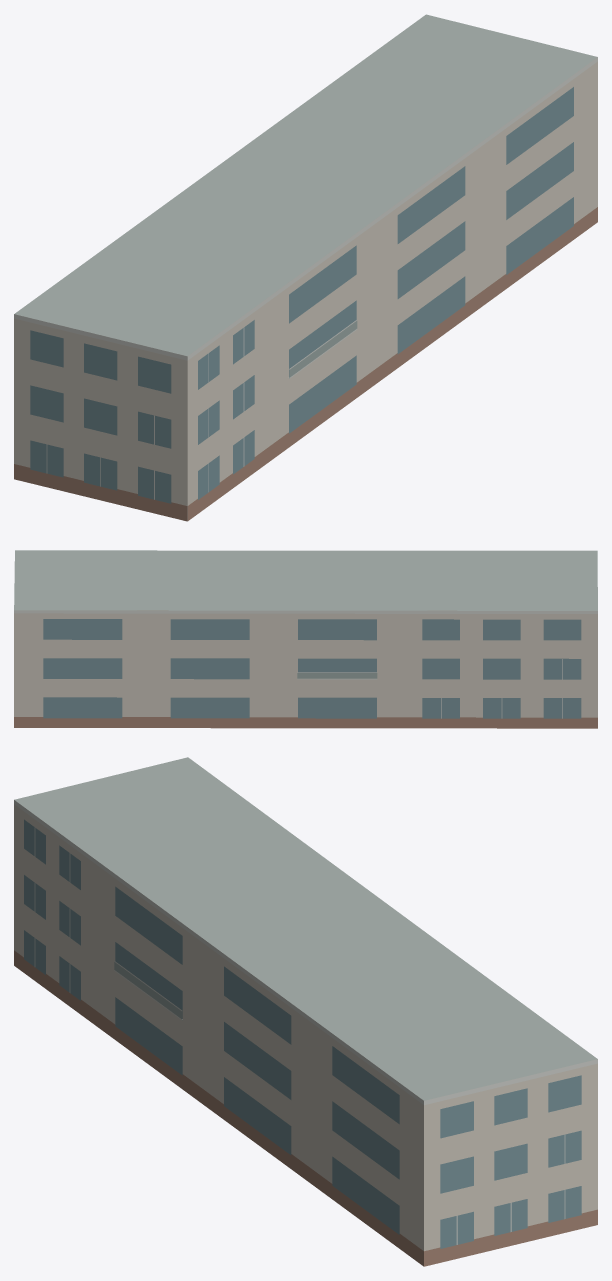
Rendered from survey-upis-32694506.glb.
The picture shows the model from 3 angles, top to bottom: view 1: azimuth 30°, elevation 25°; view 2: azimuth 150°, elevation 25°; view 3: azimuth 270°, elevation 25°; orthographic projection. The views are drawn at different scales.
Parts seen in each view (by area): view 1: survey-upis-32694506.tmp; view 2: survey-upis-32694506.tmp; view 3: survey-upis-32694506.tmp.
Boxes of the visible parts, x1,y1,x2,y2 form: survey-upis-32694506.tmp: (14, 14, 597, 521); survey-upis-32694506.tmp: (14, 550, 597, 728); survey-upis-32694506.tmp: (14, 757, 597, 1266).
Size of the model in its own units: 40.67 by 9.15 by 29.2.
